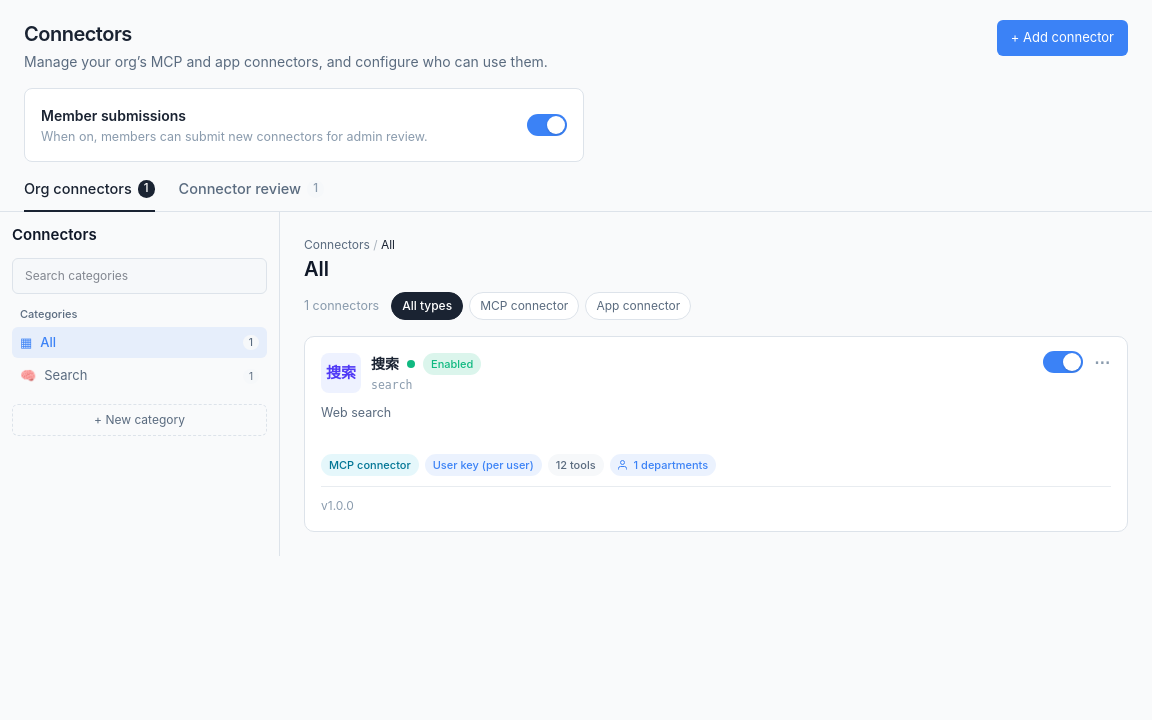
Scenario: MCPManagePage (org connectors + review tabs) › rejecting with a reason posts it
This screenshot has width=1152, height=720.
expect the text "Web search" is shown: met, box [321,405,391,420]
Click the button "Connector review 1": (251, 195) [178,178,324,212]
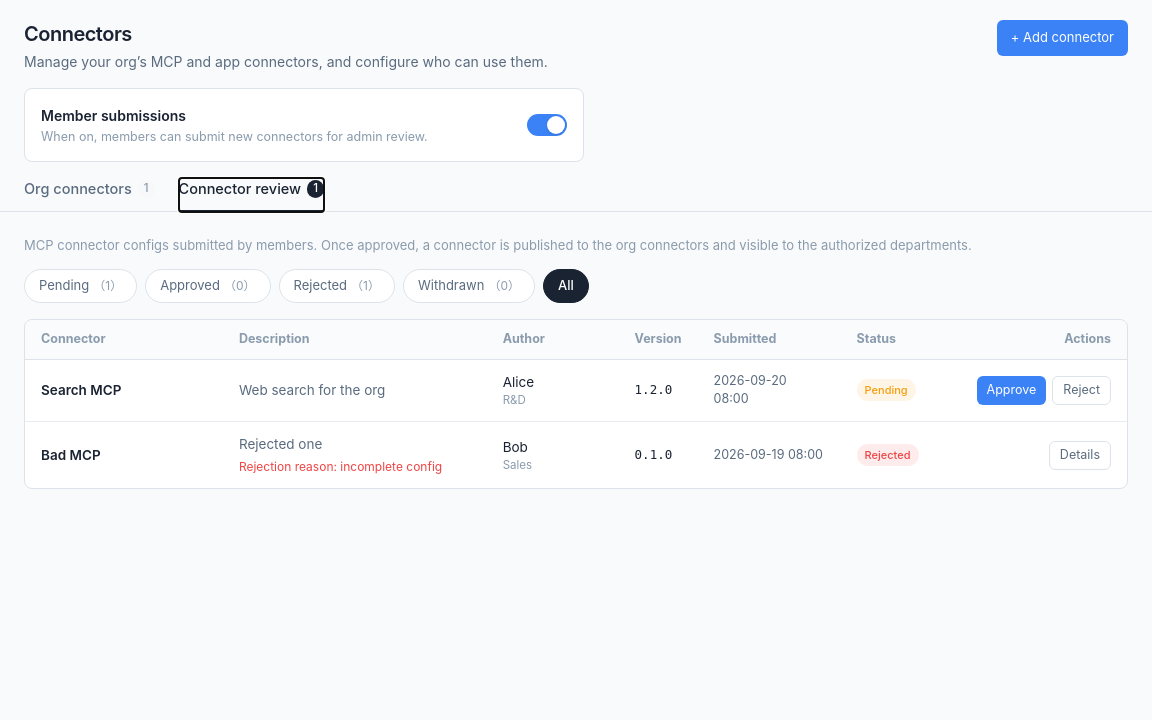
Click the button "Reject": (1082, 390) [1052,376,1111,405]
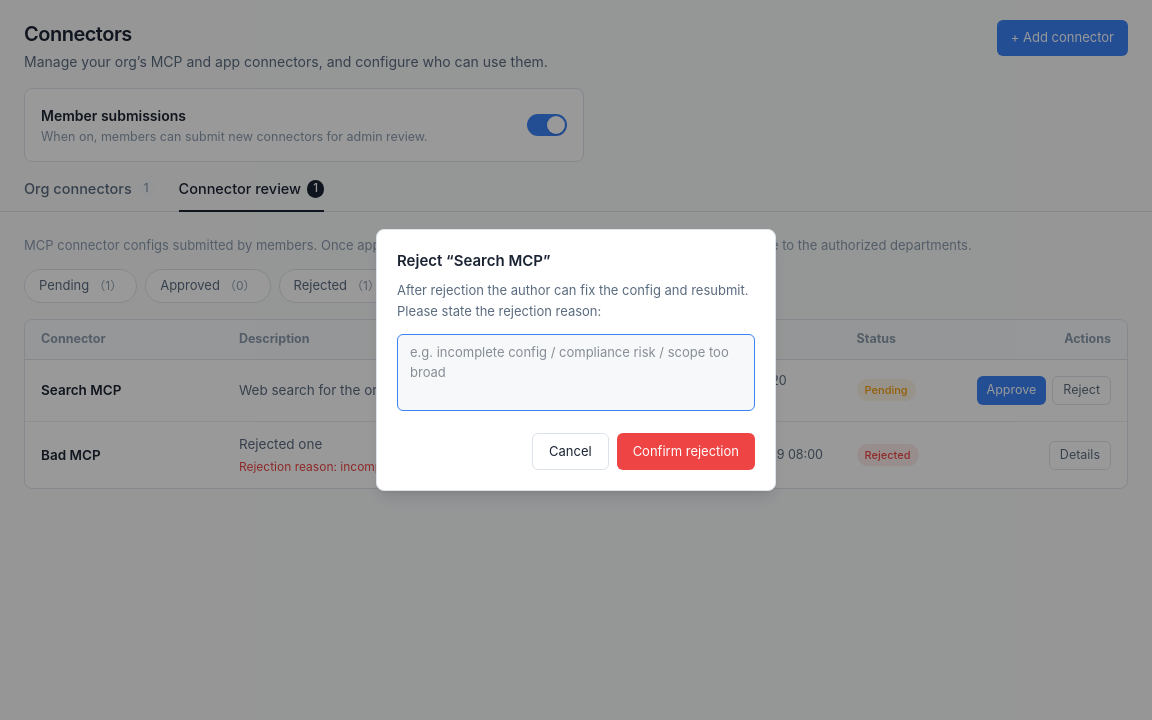
In the text box named "After rejection the author can fix the config and resubmit. Please state the rejection reason:": (576, 373) [397,334,755,411], type "incomplete config"
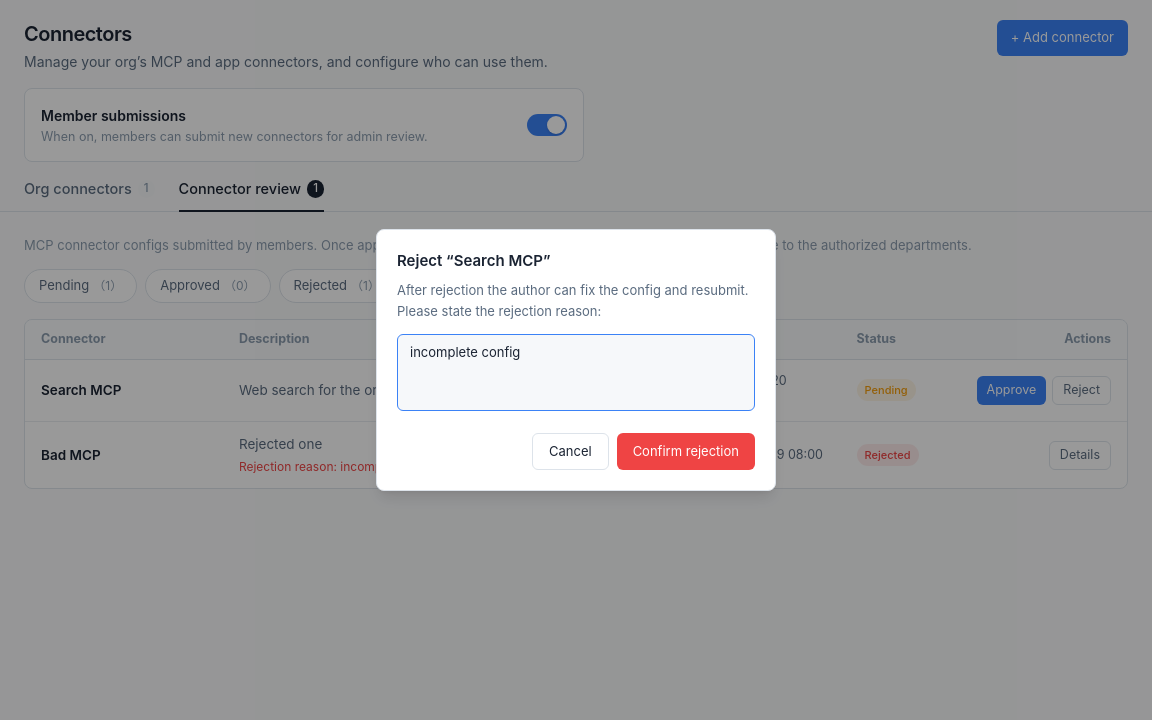
Click the button "Confirm rejection": (686, 452) [617,433,755,470]
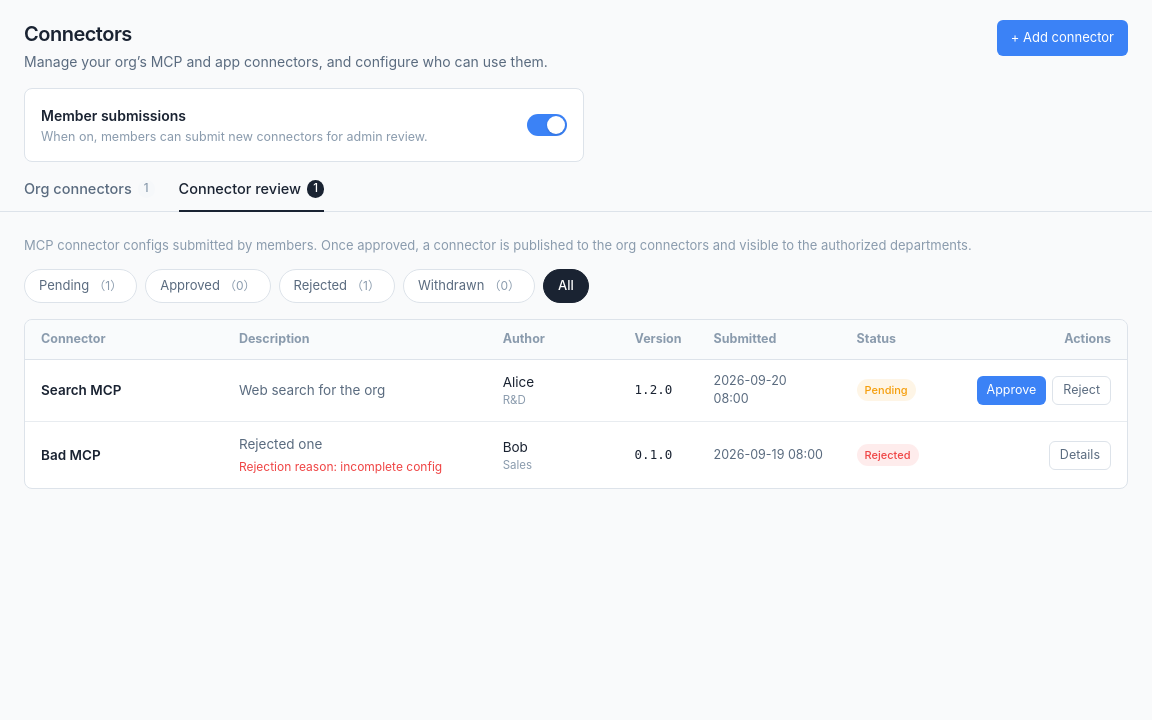
expect the dialog is gone: met
